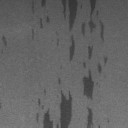red iron: (61, 0, 104, 61), (82, 45, 108, 100), (35, 90, 72, 128), (32, 16, 50, 39), (86, 107, 93, 128), (2, 35, 7, 46), (40, 0, 46, 7), (56, 38, 60, 46), (58, 78, 61, 84)
